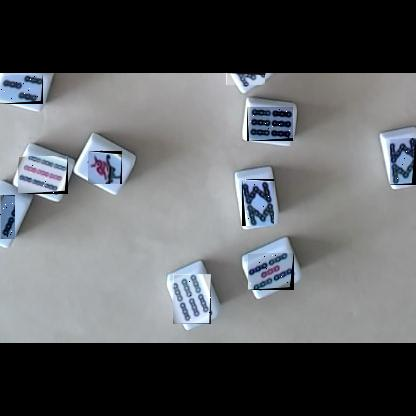1s: (88, 151, 122, 184)
2s: (0, 195, 15, 239)
3s: (0, 75, 43, 104)
5s: (248, 253, 294, 290)
6s: (173, 274, 211, 324), (247, 107, 293, 141)
8s: (242, 179, 274, 226), (390, 138, 416, 185), (226, 73, 265, 85)
9s: (18, 156, 68, 194)
